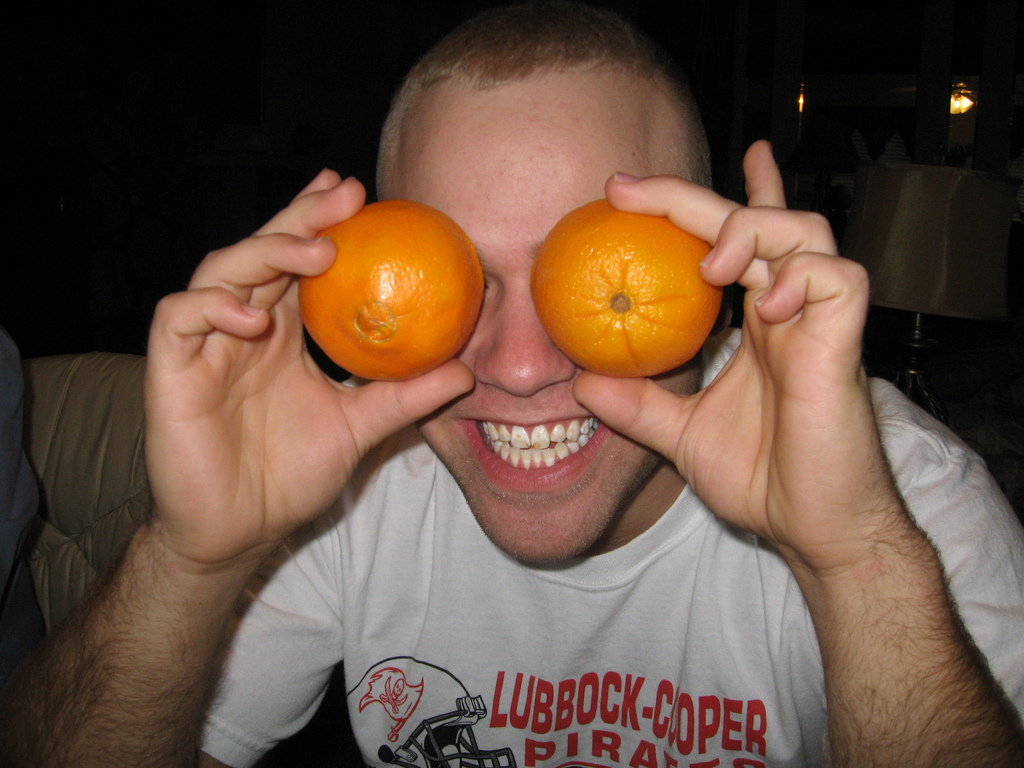Ripe: (533, 199, 723, 374), (305, 195, 483, 380)
